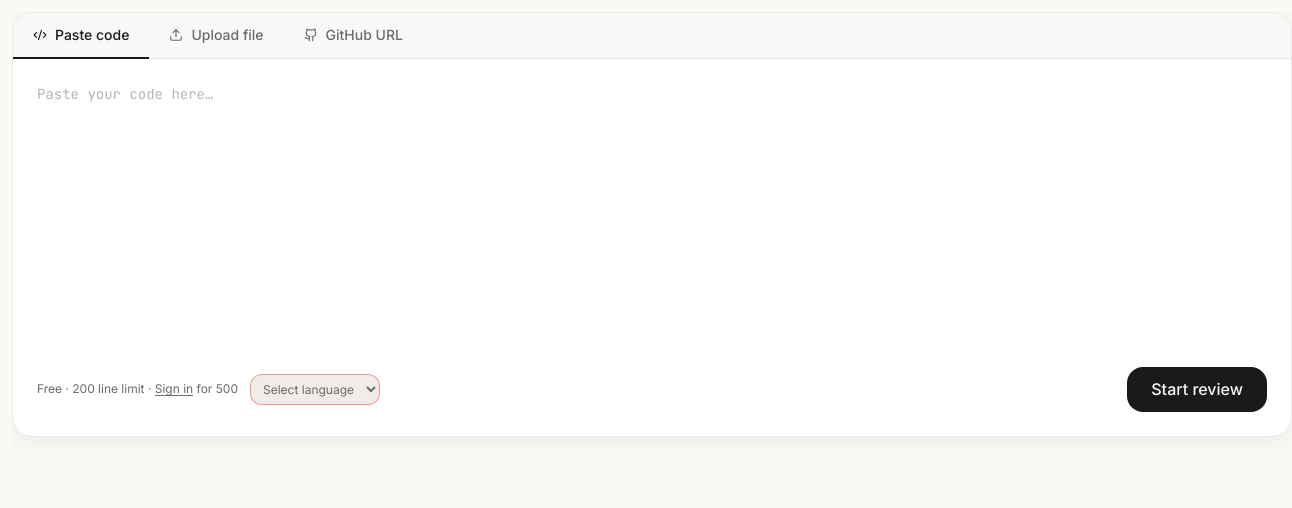
Test: InputPanel — paste tab › shows generic error for non-ApiError exceptions
In the text box with placeholder "Paste your code here…": (652, 211) 37,83 -> 1267,339, type "def foo(): pass"
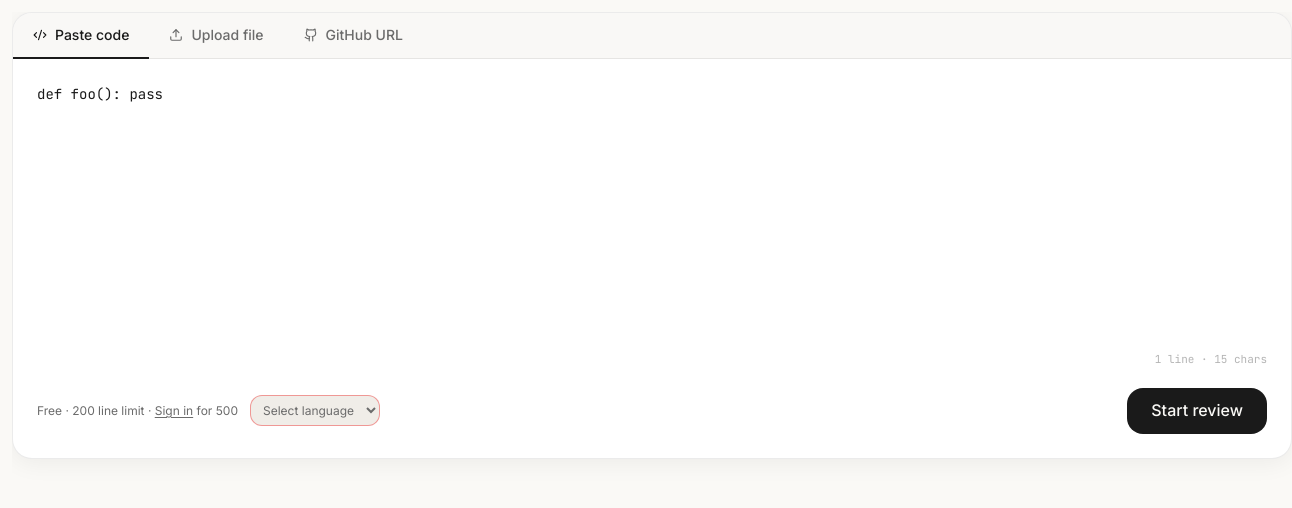
Select "Python" in the dropdown: (315, 411) 250,396 -> 380,426
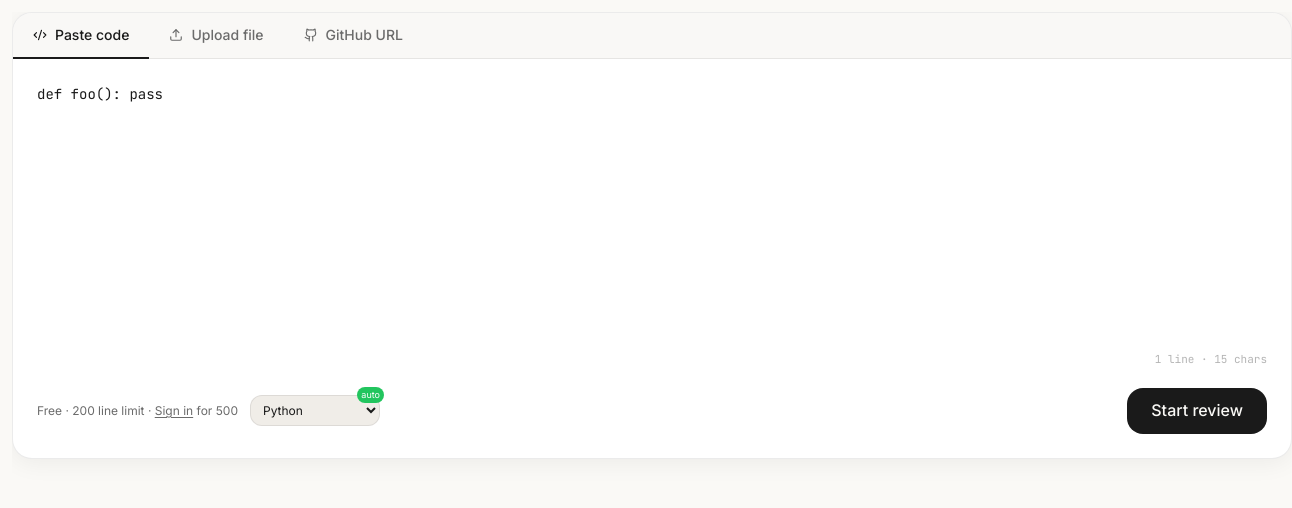
Click the button "Start review": (1197, 411) 1127,388 -> 1267,434
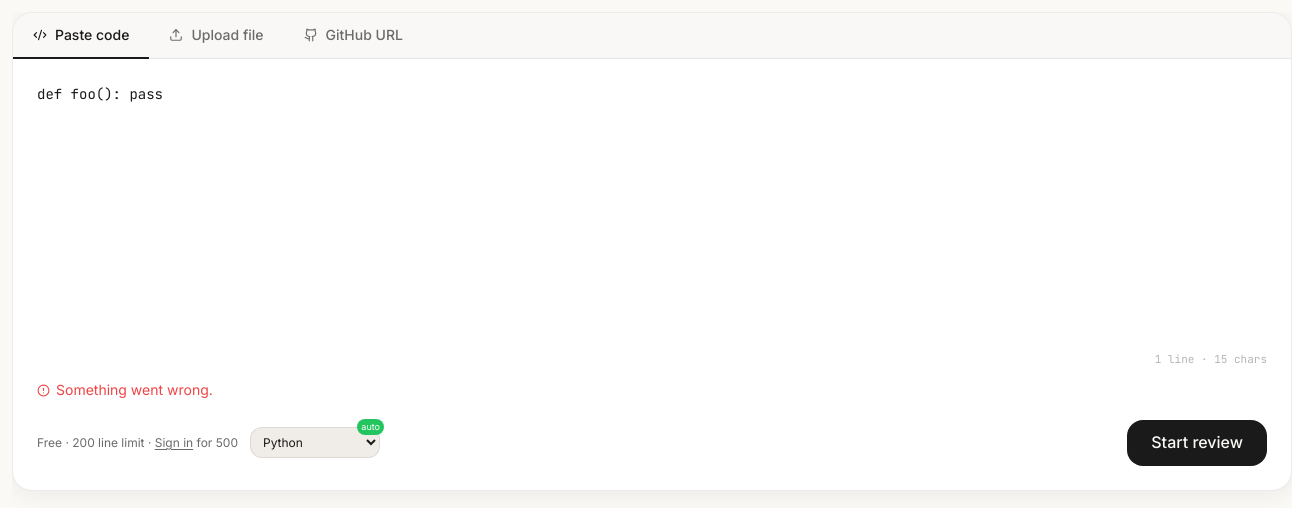
expect the text "Something went wrong." is shown: met, box 37,381 -> 213,398
